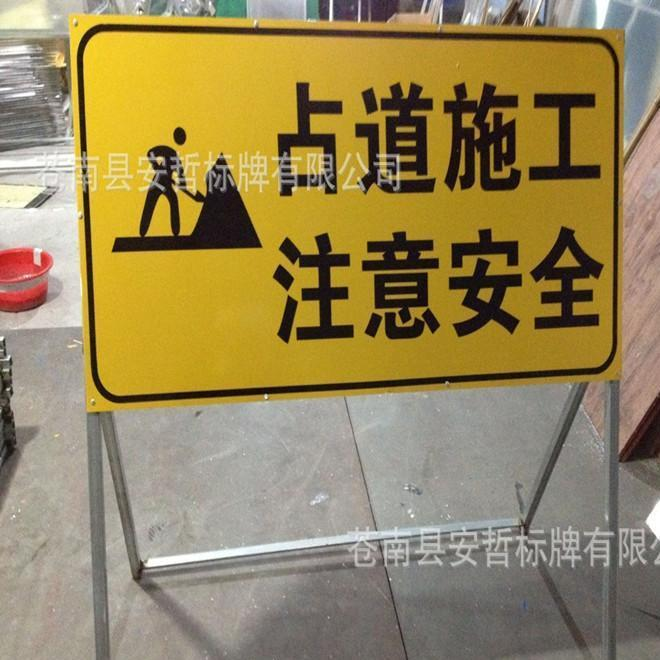sign: (76, 26, 617, 391)
